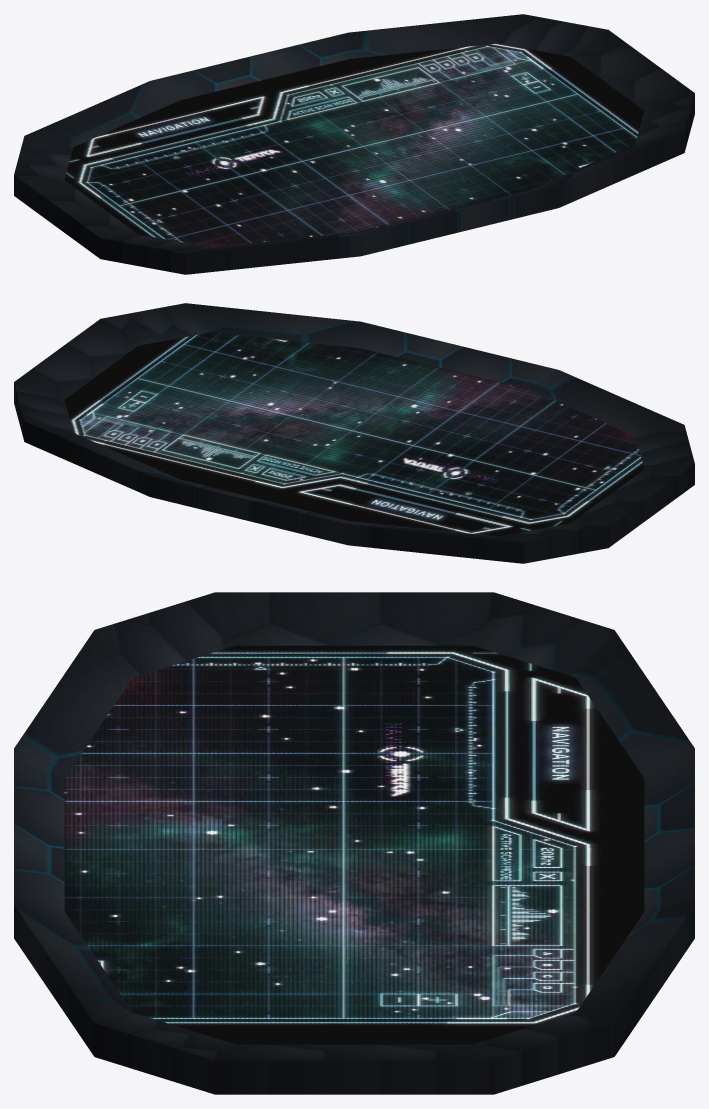
File: modern_tablet_pc_design.glb
The picture shows the model from 3 angles, top to bottom: view 1: azimuth 30°, elevation 25°; view 2: azimuth 150°, elevation 25°; view 3: azimuth 270°, elevation 25°; orthographic projection. The views are drawn at different scales.
Visible parts, largest first — view 1: MaterialFBXASC032FBXASC0352142171811, MaterialFBXASC032FBXASC0352142150880; view 2: MaterialFBXASC032FBXASC0352142171811, MaterialFBXASC032FBXASC0352142150880; view 3: MaterialFBXASC032FBXASC0352142171811, MaterialFBXASC032FBXASC0352142150880.
Part boxes in pixels (<box>): MaterialFBXASC032FBXASC0352142171811: <box>64,43,644,247</box>; MaterialFBXASC032FBXASC0352142150880: <box>14,14,694,274</box>; MaterialFBXASC032FBXASC0352142171811: <box>64,332,644,536</box>; MaterialFBXASC032FBXASC0352142150880: <box>14,303,694,563</box>; MaterialFBXASC032FBXASC0352142171811: <box>64,645,644,1044</box>; MaterialFBXASC032FBXASC0352142150880: <box>14,592,694,1094</box>.
Bounding box in the file's own units: 4.62 × 0.1557 × 2.84.
Materials: 2 (2 with a texture image).
